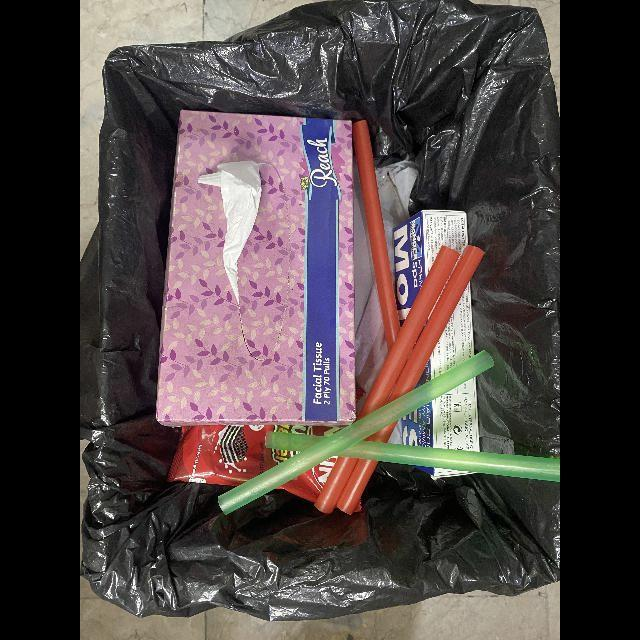cardboard: (157, 110, 355, 428), (393, 210, 481, 479)
food_wrapper: (165, 425, 356, 503)
